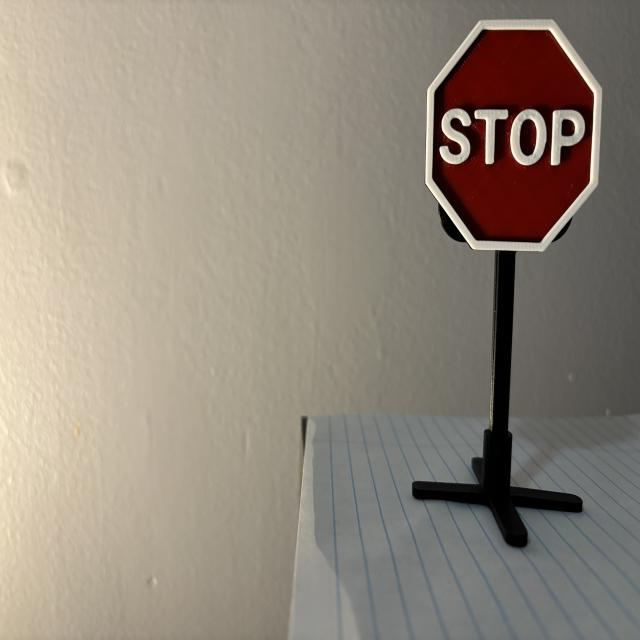sign_stop: (426, 20, 603, 251)
